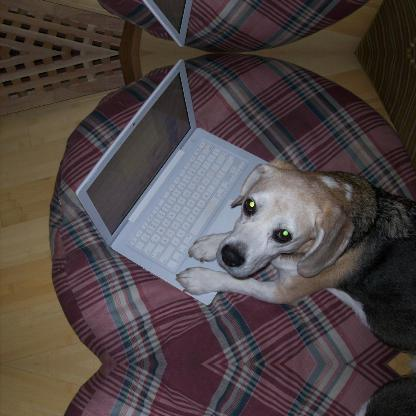Dog: (176, 156, 414, 361), (175, 366, 415, 415)
